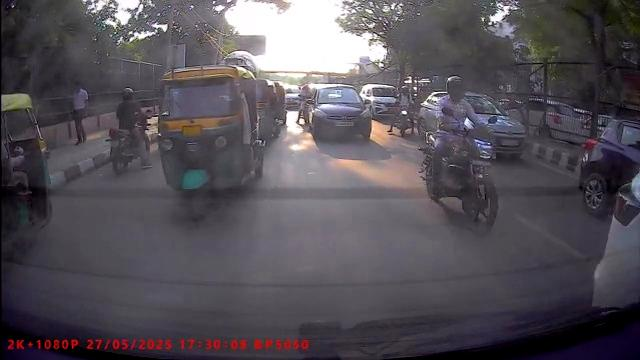motorcycle_with_helmet: (418, 73, 503, 237), (106, 86, 152, 175)
